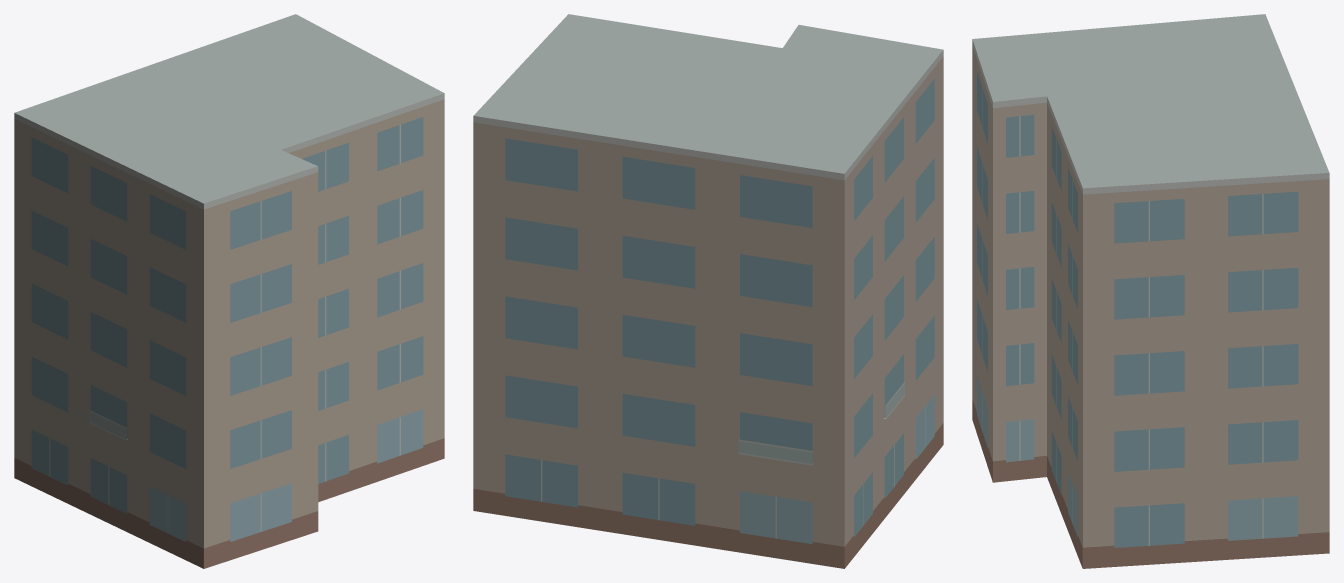
The model's file is survey-upis-32752577.glb.
The picture shows the model from 3 angles, left to right: view 1: azimuth 30°, elevation 25°; view 2: azimuth 150°, elevation 25°; view 3: azimuth 270°, elevation 25°; orthographic projection. The views are drawn at different scales.
Parts seen in each view (by area): view 1: survey-upis-32752577.tmp; view 2: survey-upis-32752577.tmp; view 3: survey-upis-32752577.tmp.
Part boxes in pixels (x1,y1,x2,y2): survey-upis-32752577.tmp: (14, 14, 444, 568); survey-upis-32752577.tmp: (473, 14, 943, 568); survey-upis-32752577.tmp: (972, 14, 1329, 568).
Size of the model in its own units: 14.7 by 14.95 by 12.73.
